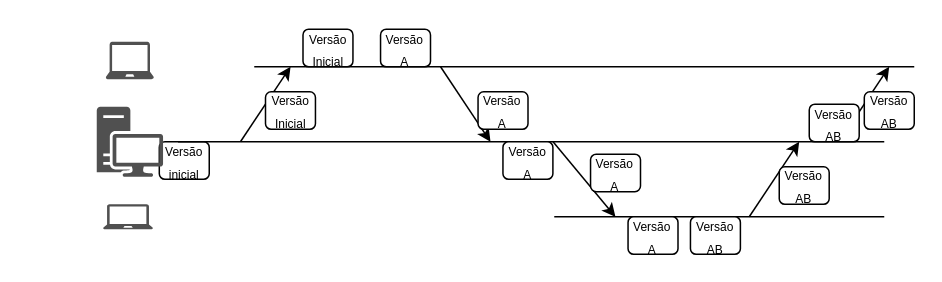
Some shapes in this 942 by 282 pixel diagram are drawn without their labels. Each missing label, with the centre of its shape:
"Cliente 1" goes at (129,59).
"Cliente 2" goes at (127,216).
"Servidor" goes at (129,141).
